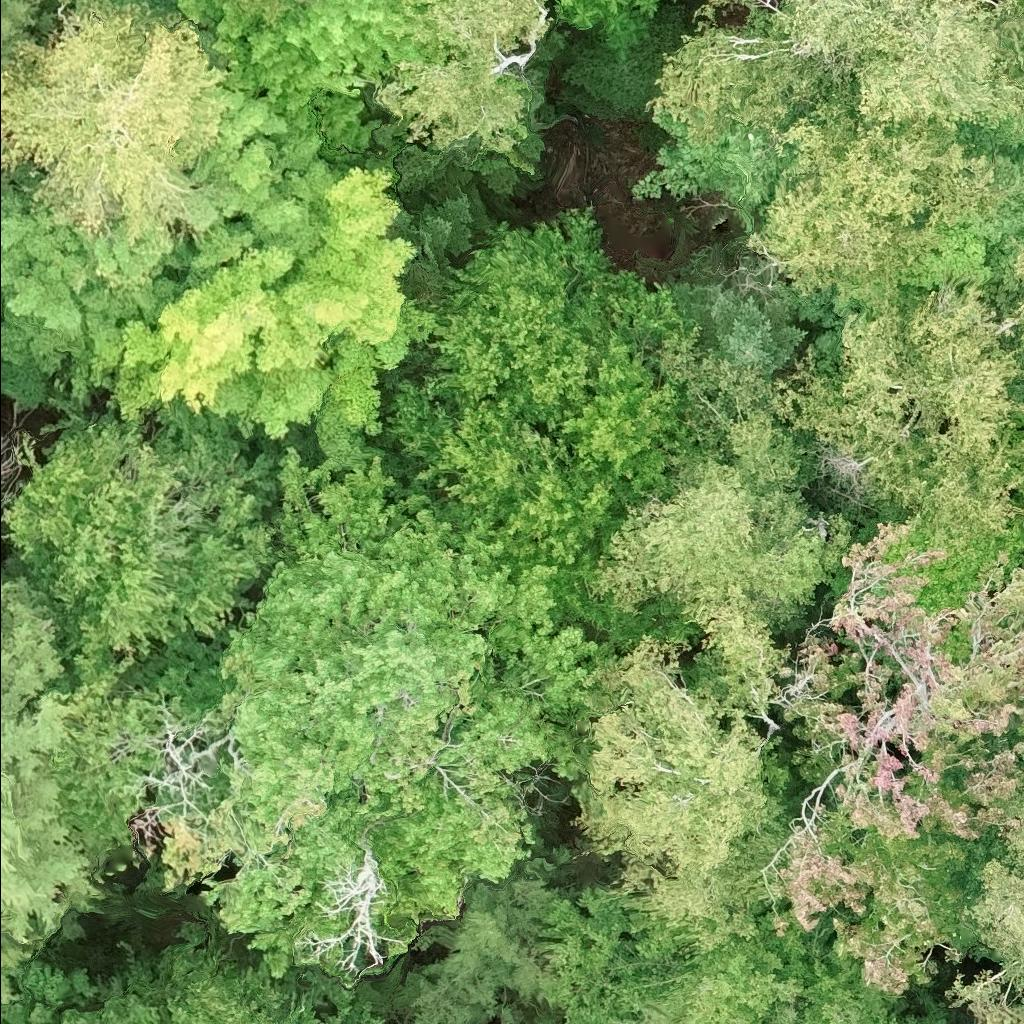crown: (156, 436, 613, 977), (777, 510, 1023, 1010), (560, 320, 852, 714), (384, 201, 688, 573), (82, 163, 438, 468), (2, 409, 281, 669), (571, 632, 791, 946), (767, 282, 1023, 547), (489, 876, 949, 1023), (744, 85, 1023, 313), (0, 1, 230, 235), (0, 566, 106, 1003), (0, 188, 187, 412), (775, 0, 1023, 148), (55, 922, 391, 1023), (182, 87, 337, 281), (171, 0, 433, 114), (368, 0, 547, 152), (645, 0, 836, 142), (409, 856, 557, 1023), (291, 838, 408, 979), (942, 826, 1023, 1023), (676, 284, 811, 382), (551, 0, 664, 62), (992, 235, 1023, 354), (0, 399, 28, 526), (0, 0, 43, 76), (231, 0, 311, 26), (0, 165, 38, 193), (996, 792, 1023, 823), (1012, 503, 1023, 538), (394, 0, 434, 9), (1018, 753, 1023, 788), (0, 390, 2, 404), (1022, 478, 1023, 484)
